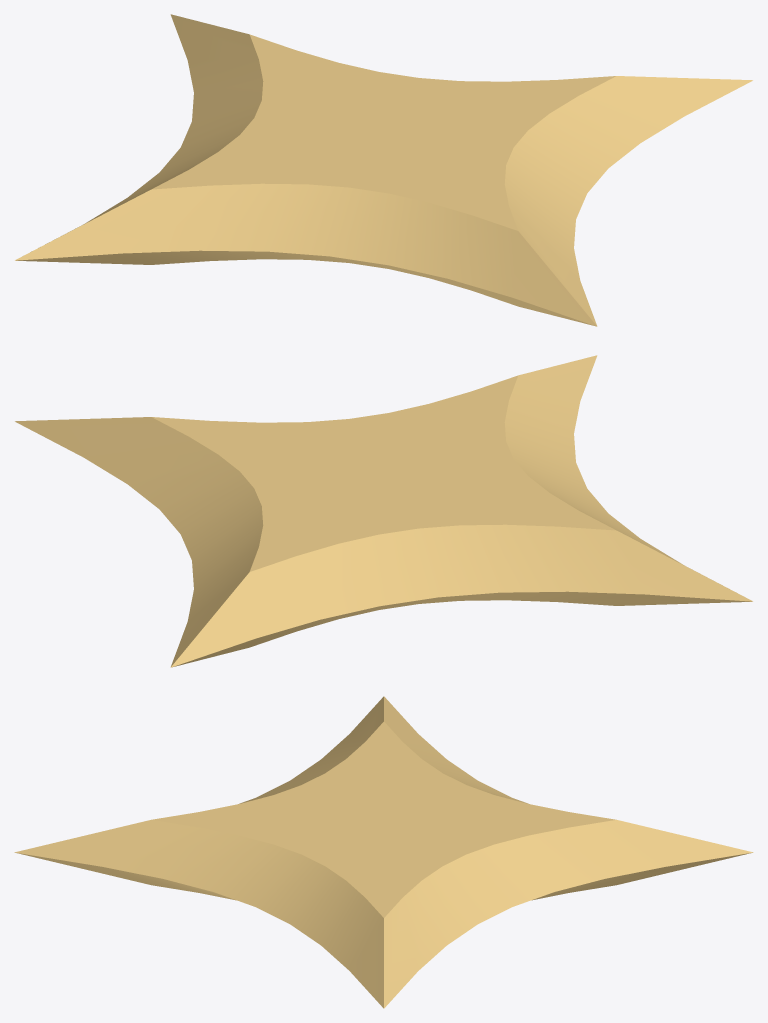
Rendered from Sigil4.fbx.
3 views of the same model, one above another, from view 1: azimuth 30°, elevation 25°; view 2: azimuth 150°, elevation 25°; view 3: azimuth 270°, elevation 25° (orthographic). The views are drawn at different scales.
Visible parts, largest first — view 1: Sigil_4; view 2: Sigil_4; view 3: Sigil_4.
Boxes of the visible parts, x1,y1,x2,y2 form: Sigil_4: (15, 14, 752, 326); Sigil_4: (15, 355, 752, 667); Sigil_4: (14, 696, 753, 1008).
Size of the model in its own units: 0.1114 by 0.0109 by 0.1114.
